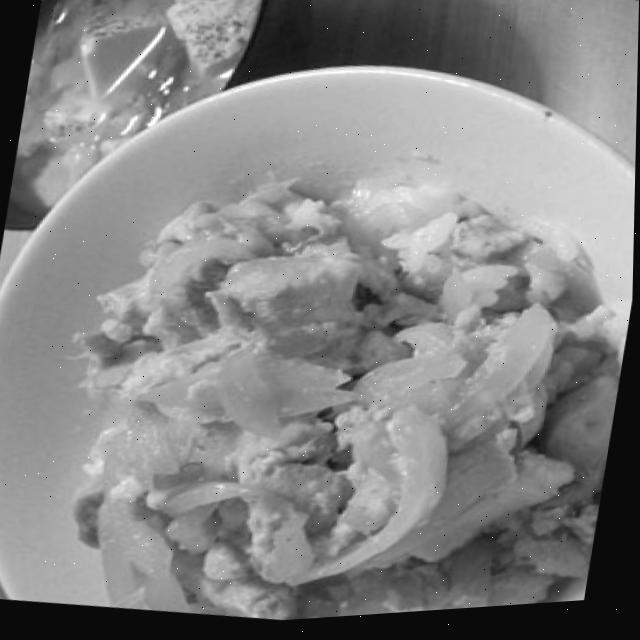米饭主食: (0, 4, 639, 640)
